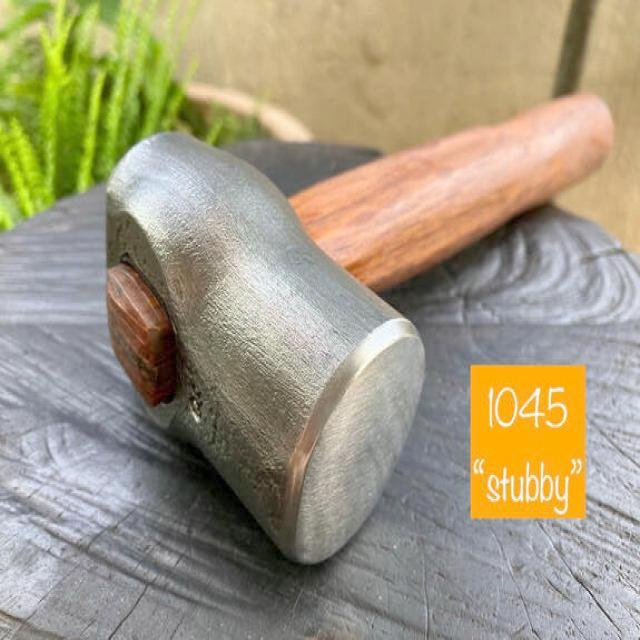hammer: (94, 90, 616, 580)
